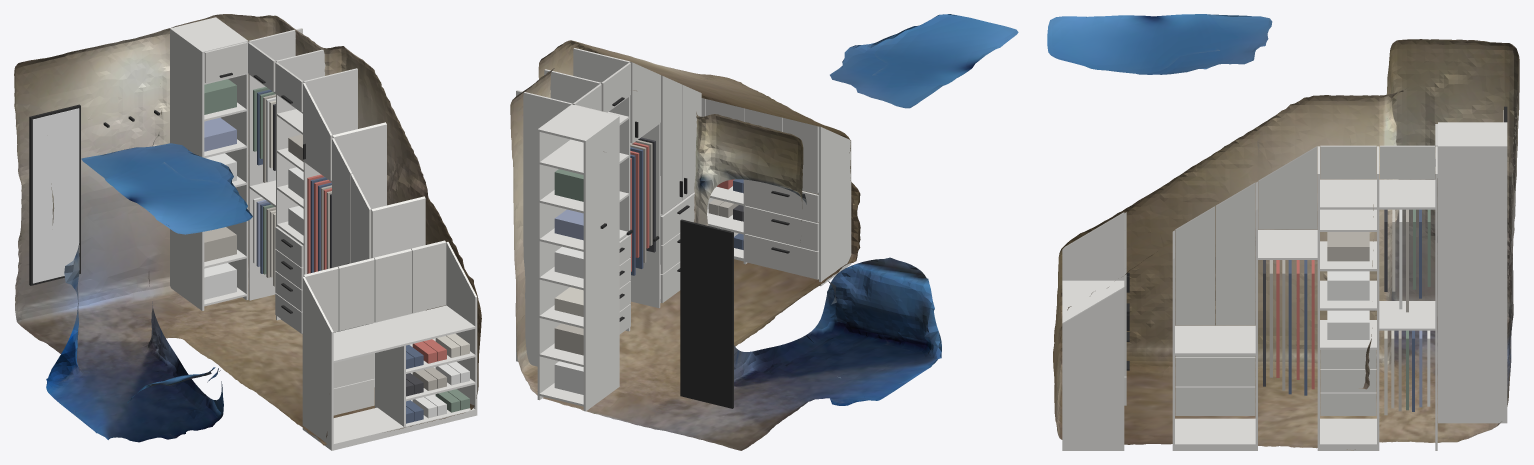
The picture shows the model from 3 angles, left to right: view 1: azimuth 30°, elevation 25°; view 2: azimuth 150°, elevation 25°; view 3: azimuth 270°, elevation 25°; orthographic projection. The views are drawn at different scales.
Parts seen in each view (by area): view 1: Scan_Closet2, Mirror_Glass, N_Panel_W, S_Side_W, S_Top, E1_Panel_N, E3_EndPanel, E0_Panel_N, E0_EndPanel, S_Bottom, E2_Panel_N, N_Panel_E (+24 smaller); view 2: Scan_Closet2, N_Panel_W, Mirror_Frame, S_Side_W, E3_EndPanel, N_Panel_E, E0_Door_N, E1_Panel_N, S_Drawer_Front1, S_Drawer_Front2, E0_Panel_N, S_Drawer_Front3 (+29 smaller); view 3: Scan_Closet2, N_Panel_E, S_Side_E, E0_Door_N, E0_Door_S, E1_Door, S_Side_W, E0_Bottom, E0_Mid, E0_Drawer_Front2, E0_Drawer_Front1, E2_Door (+30 smaller).
Boxes of the visible parts, x1,y1,x2,y2 form: Scan_Closet2: (14,14,481,445); Mirror_Glass: (32,108,79,283); N_Panel_W: (170,28,204,310); S_Side_W: (302,277,333,450); S_Top: (333,305,475,362); E1_Panel_N: (303,68,357,276); E3_EndPanel: (248,28,302,300); E0_Panel_N: (332,122,386,209); E0_EndPanel: (371,196,425,386); S_Bottom: (333,394,475,450); E2_Panel_N: (276,49,325,320); N_Panel_E: (215,17,248,300); Scan_Closet2: (510,14,1018,450); N_Panel_W: (583,116,619,411); Mirror_Frame: (680,219,733,408); S_Side_W: (819,126,851,286); E3_EndPanel: (516,90,572,366); N_Panel_E: (537,104,572,400); E0_Door_N: (660,75,681,214); E1_Panel_N: (573,48,630,331); S_Drawer_Front1: (744,234,818,279); S_Drawer_Front2: (744,205,818,251); E0_Panel_N: (630,123,660,308); S_Drawer_Front3: (744,179,818,223); Scan_Closet2: (1047,14,1519,450); N_Panel_E: (1438,145,1507,423); S_Side_E: (1062,287,1124,450); E0_Door_N: (1215,182,1255,325); E0_Door_S: (1175,206,1214,325); E1_Door: (1258,146,1317,229); S_Side_W: (1062,212,1124,280); E0_Bottom: (1175,418,1255,450); E0_Mid: (1175,325,1255,355); E0_Drawer_Front2: (1175,357,1255,386); E0_Drawer_Front1: (1175,386,1255,415); E2_Door: (1320,145,1376,179).
Bounding box in the file's own units: 3.17 × 2.6 × 3.81.
14 materials, 1 textured.
